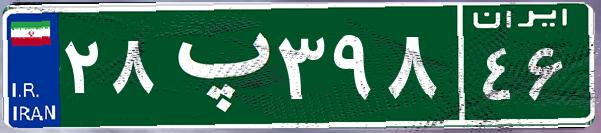2: (57, 26, 110, 107)
3: (273, 28, 330, 110)
4: (475, 38, 525, 113)
6: (525, 38, 570, 115)
8: (385, 28, 445, 110), (110, 28, 158, 105)
9: (330, 28, 385, 110)
پ: (158, 15, 273, 115)
